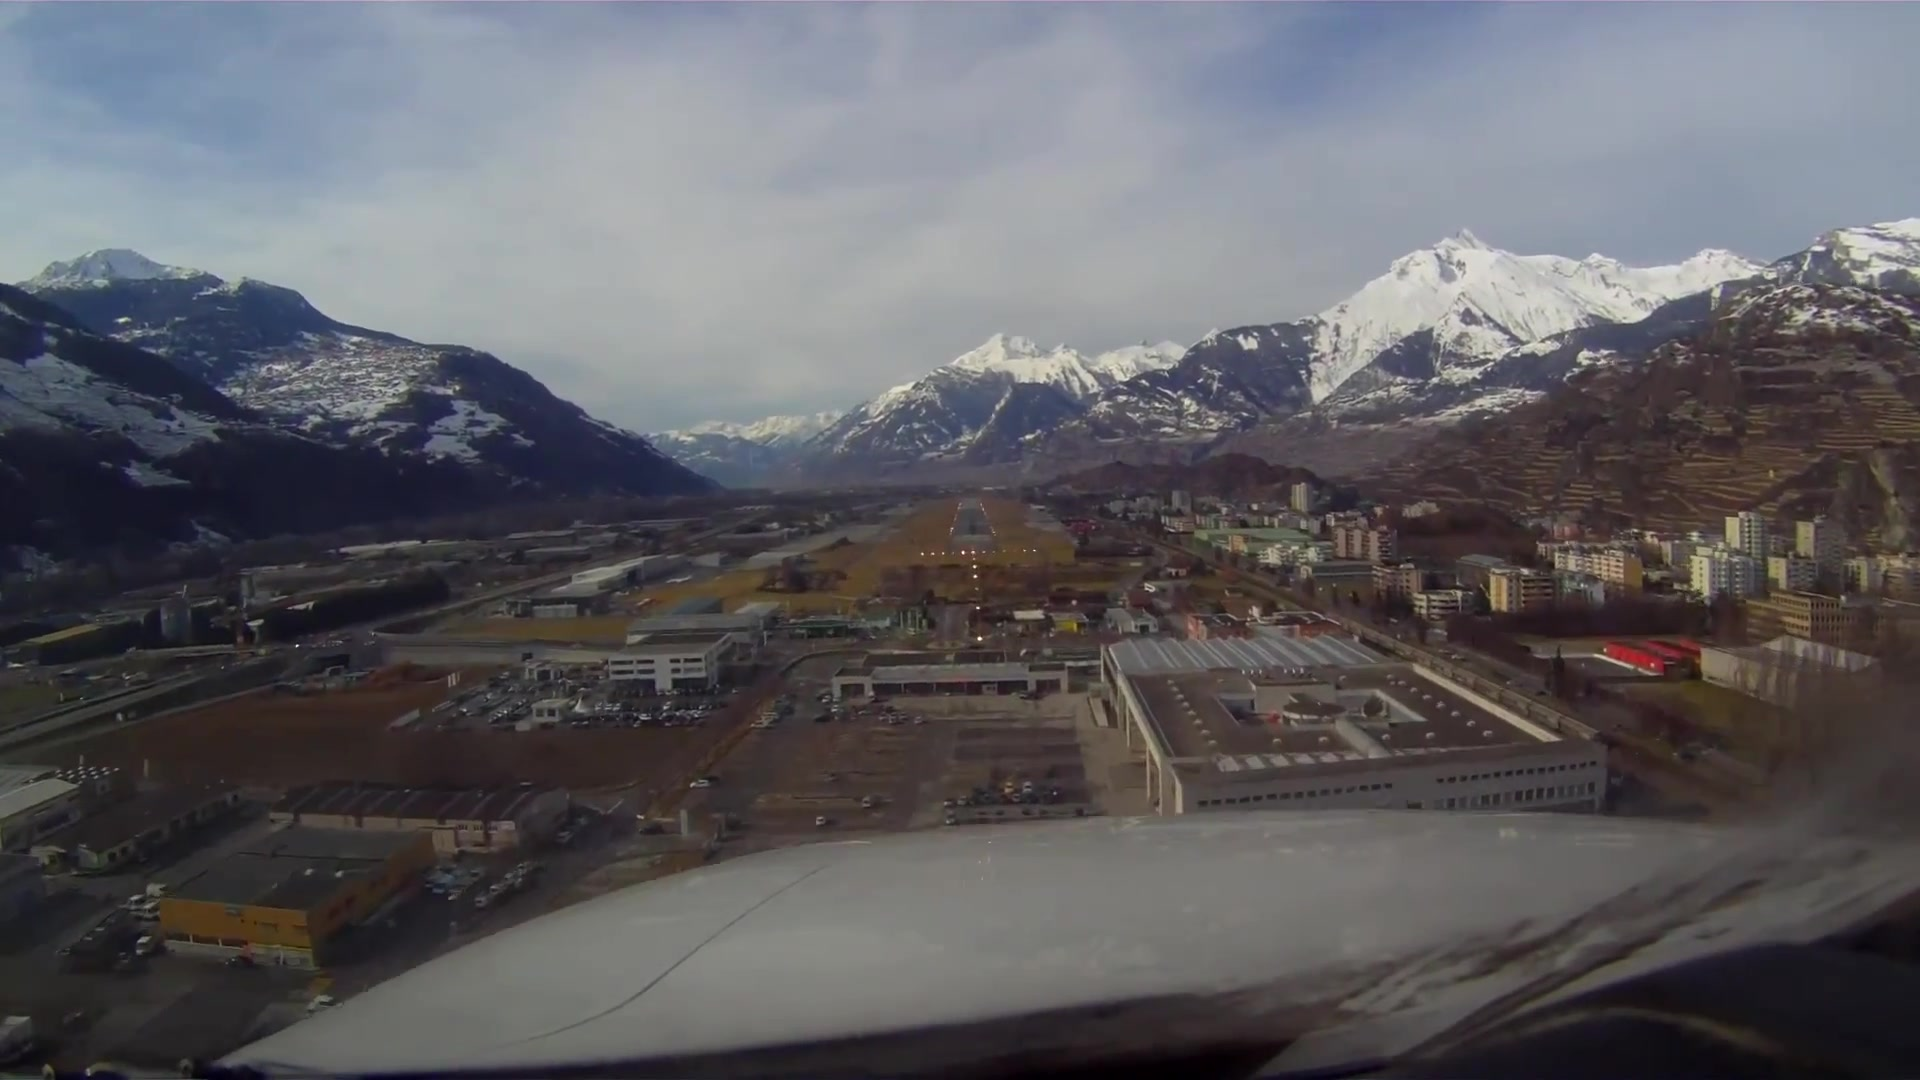runway: (944, 493, 997, 549)
